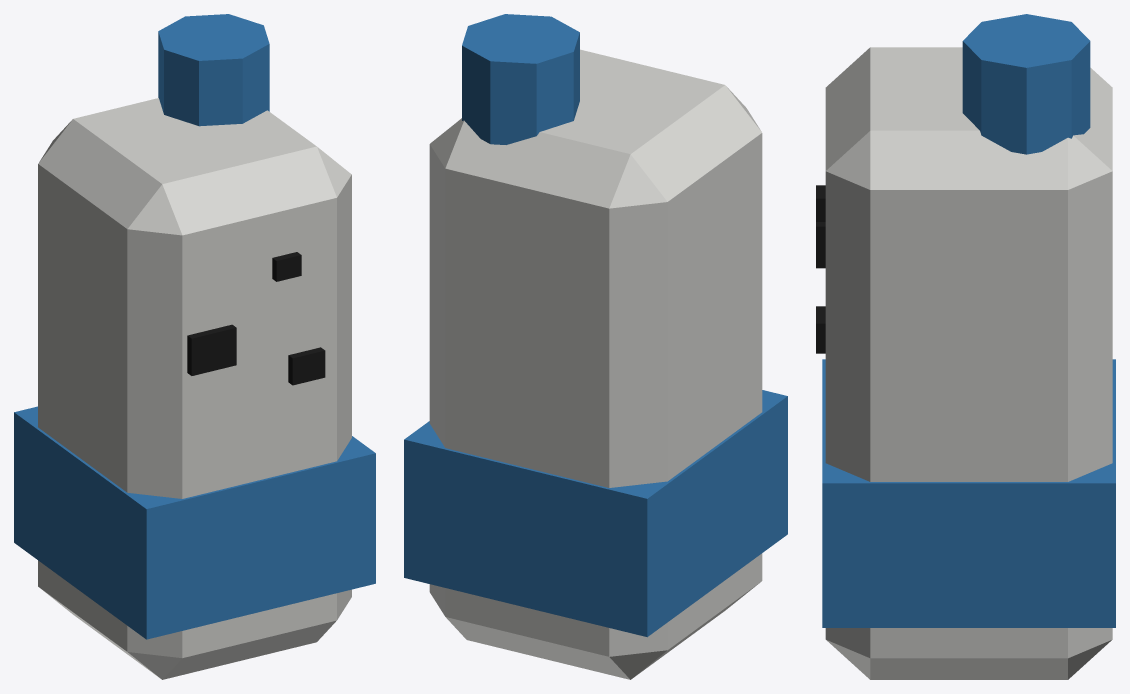
Rendered from hh_sua_tuoi.glb.
3 views of the same model, side by side, from view 1: azimuth 30°, elevation 25°; view 2: azimuth 150°, elevation 25°; view 3: azimuth 270°, elevation 25° (orthographic). The views are drawn at different scales.
Visible parts, largest first — view 1: hh_sua_tuoi; view 2: hh_sua_tuoi; view 3: hh_sua_tuoi.
Part boxes in pixels (x1,y1,x2,y2): hh_sua_tuoi: (14, 14, 375, 679); hh_sua_tuoi: (404, 14, 787, 679); hh_sua_tuoi: (816, 14, 1115, 679).
Bounding box in the file's own units: 0.092 × 0.215 × 0.094.
